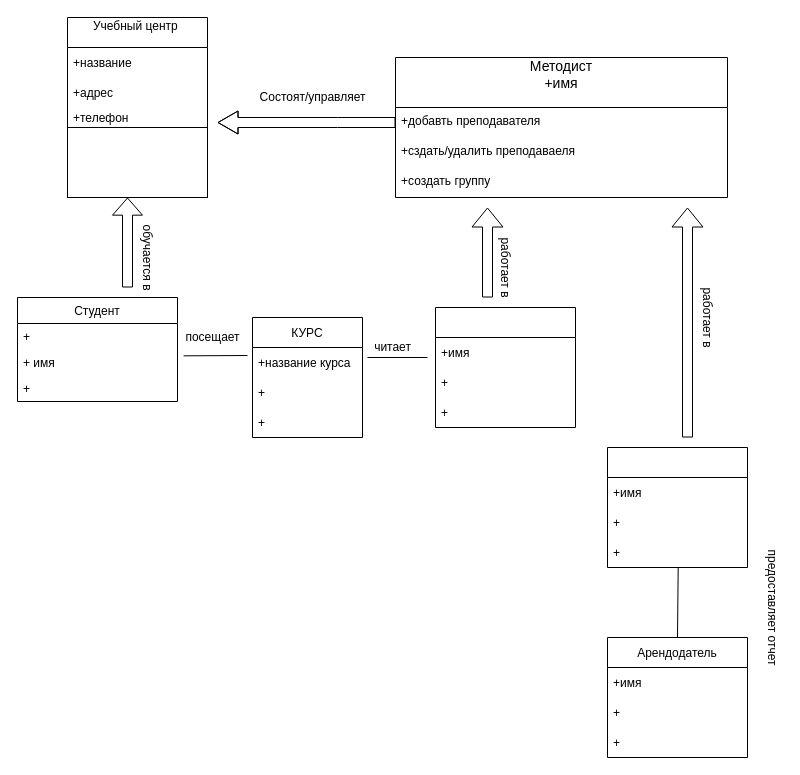
Image size: 800x775. Some labels were removed from this diagram. Each missing label, with the box of its shape:
+добавить студента +создать студента +переместить студента +добавить методиста +: (66, 126, 208, 198)
Бухгалтерия: (606, 446, 748, 568)
Преподаватель: (434, 306, 576, 428)
